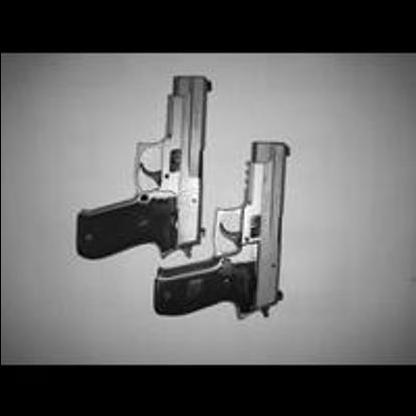weapon: (74, 73, 213, 260), (155, 137, 294, 321)
